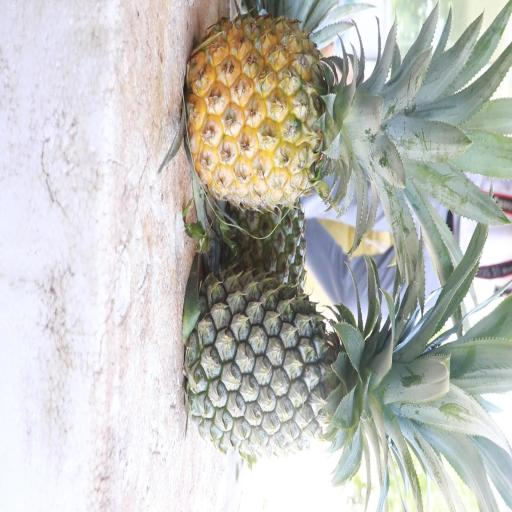Pineapple - v8 v1: (180, 7, 432, 216)
